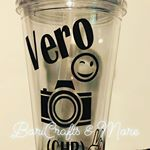cups: (9, 1, 132, 150)
